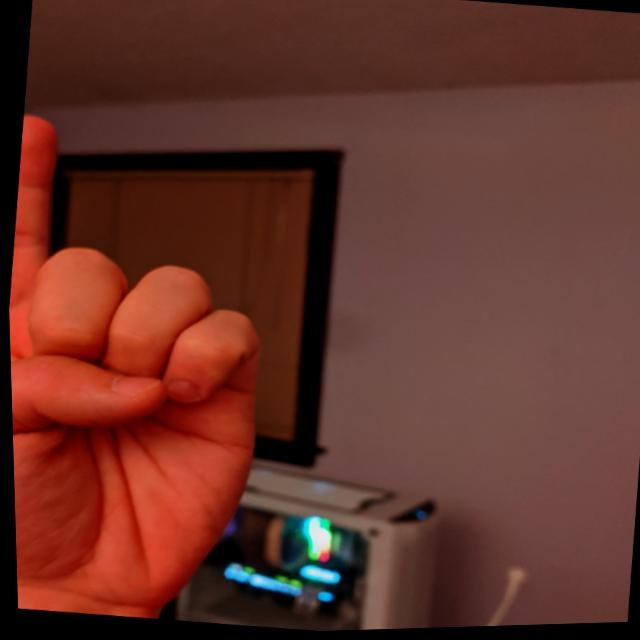D: (3, 101, 300, 632)
